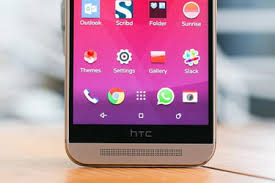htc: (60, 1, 222, 171)
